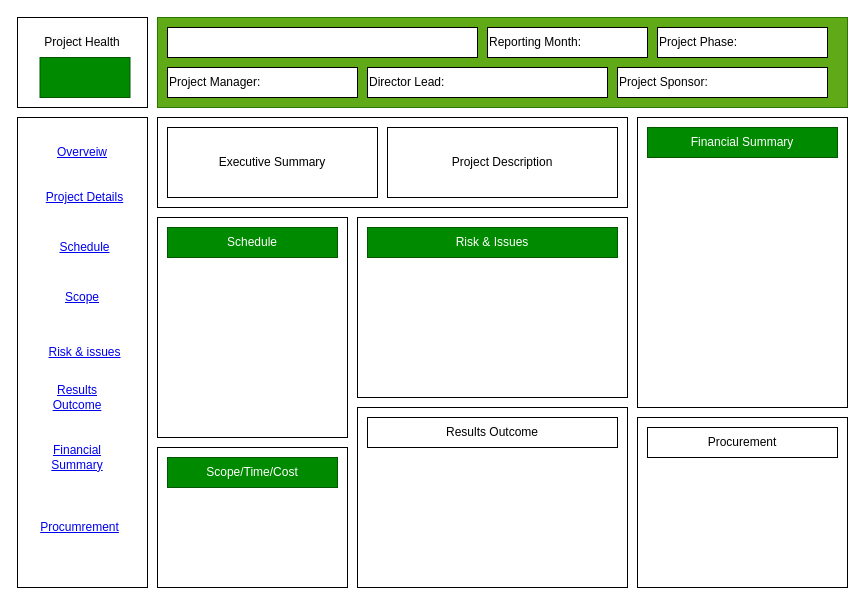
This 865x605 diagram has some shape labels left out. The shapes that lost their labels are listed below. From the top down, each one's centre as x and y in pixels, then its label:
At (322,42): "Project Name & Code: 69AD".
At (84,77): "Green".
